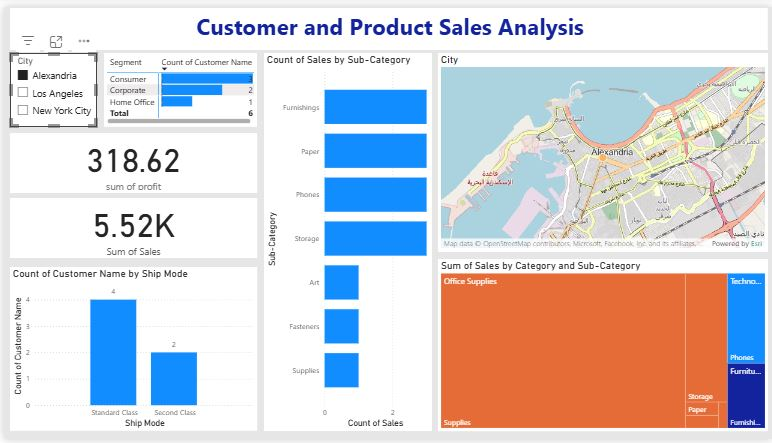

The page's visual inventory and layout, read from the dashboard file:
{"tool":"powerbi","page":{"name":"Page 1","canvas":[1280,720],"ordinal":0},"visuals":[{"type":"clusteredColumnChart","fields":{"Category":["Orders.Ship Mode"],"Y":["Count(Orders.Customer Name)"]},"box":[10,433.3,411.7,273.3],"z":0},{"type":"pivotTable","fields":{"Rows":["Orders.Ship Mode","Orders.Segment"],"Values":["Count(Orders.Customer Name)"]},"box":[166.7,76.7,255,123.3],"z":1000},{"type":"slicer","fields":{"Values":["Orders.City"]},"box":[10,76.7,145,123.3],"z":2000},{"type":"card","fields":{"Values":["Sum(Orders.Sales)"]},"box":[10,318.3,411.7,100],"z":3000},{"type":"card","fields":{"Values":["Orders.sum of profit"]},"box":[10,210,411.7,100],"z":4000},{"type":"clusteredBarChart","fields":{"Category":["Orders.Sub-Category"],"Y":["Count(Orders.Sales)"]},"box":[433.3,76.7,280,630],"z":5000},{"type":"treemap","fields":{"Values":["Sum(Orders.Sales)"],"Group":["Orders.Category"],"Details":["Orders.Sub-Category"]},"box":[723.3,420,550,286.7],"z":6000},{"type":"esriVisual","fields":{"Location":["Orders.City"]},"box":[723.3,76.7,550,330],"z":8000},{"type":"textbox","box":[10,1.7,1263.3,70],"z":9000}]}

Visuals, with their boxes on the page's 1280x720 design canvas (x1, y1, x2, y2). These are canvas units, not pixel positions in the 772x443 screenshot, which may show the page scaled, cropped or inside an application window:
clusteredColumnChart - Orders.Ship Mode x Count(Orders.Customer Name): x1=10 y1=433 x2=422 y2=707
pivotTable - Orders.Ship Mode x Orders.Segment: x1=167 y1=77 x2=422 y2=200
slicer - Orders.City: x1=10 y1=77 x2=155 y2=200
card - Sum(Orders.Sales): x1=10 y1=318 x2=422 y2=418
card - Orders.sum of profit: x1=10 y1=210 x2=422 y2=310
clusteredBarChart - Orders.Sub-Category x Count(Orders.Sales): x1=433 y1=77 x2=713 y2=707
treemap - Sum(Orders.Sales) x Orders.Category: x1=723 y1=420 x2=1273 y2=707
esriVisual - Orders.City: x1=723 y1=77 x2=1273 y2=407
textbox: x1=10 y1=2 x2=1273 y2=72
